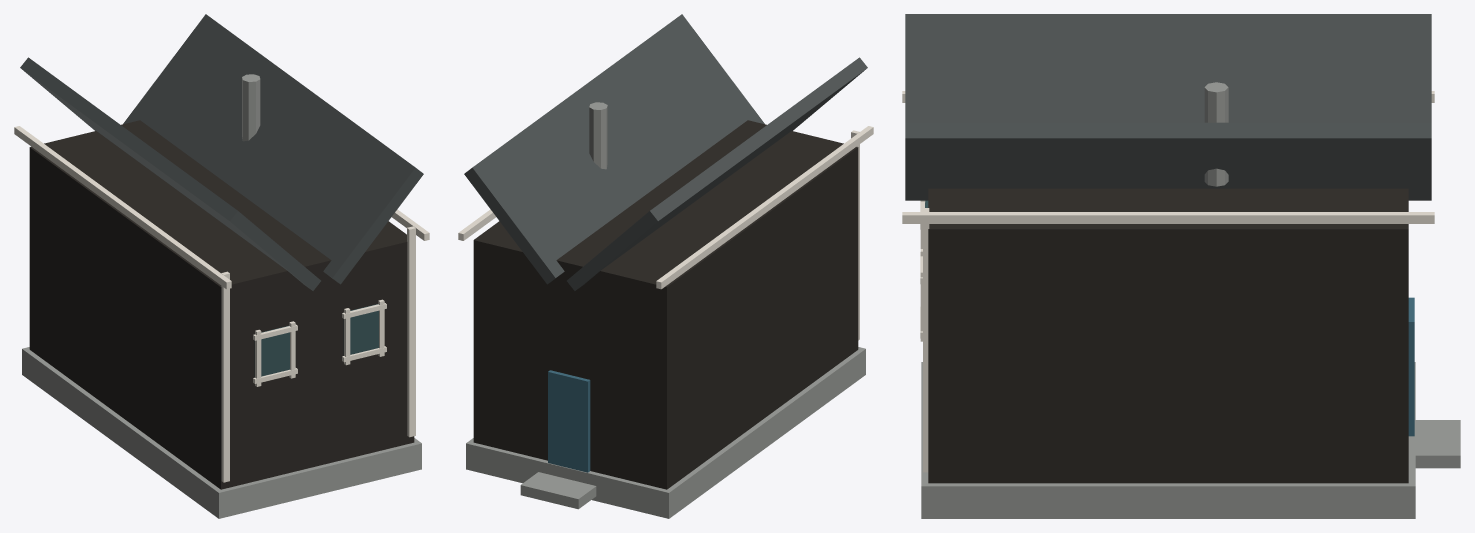
File: norway-house-charcoal-white_lod0.glb
The picture shows the model from 3 angles, left to right: view 1: azimuth 30°, elevation 25°; view 2: azimuth 150°, elevation 25°; view 3: azimuth 270°, elevation 25°; orthographic projection. The views are drawn at different scales.
Parts seen in each view (by area): view 1: RF_House_Walls, RF_House_RoofB, RF_House_Foundation, RF_House_RoofA, RF_House_Fascia, RF_House_Corner.001, RF_House_Corner, RF_House_Chimney, RF_House_WindowRecess.001, RF_House_WindowRecess; view 2: RF_House_Walls, RF_House_RoofB, RF_House_Foundation, RF_House_RoofA, RF_House_Door, RF_House_Fascia, RF_House_Threshold, RF_House_Chimney; view 3: RF_House_Walls, RF_House_RoofA, RF_House_RoofB, RF_House_Foundation, RF_House_Fascia.001, RF_House_Threshold, RF_House_Corner.001, RF_House_Chimney, RF_House_Door.
Boxes of the visible parts, bbox=[...] form: RF_House_Walls: bbox=[29, 120, 414, 489]; RF_House_RoofB: bbox=[123, 14, 423, 284]; RF_House_Foundation: bbox=[22, 347, 421, 518]; RF_House_RoofA: bbox=[20, 57, 320, 290]; RF_House_Fascia: bbox=[14, 126, 231, 289]; RF_House_Corner.001: bbox=[407, 226, 415, 437]; RF_House_Corner: bbox=[221, 271, 229, 482]; RF_House_Chimney: bbox=[242, 74, 260, 141]; RF_House_WindowRecess.001: bbox=[343, 304, 378, 355]; RF_House_WindowRecess: bbox=[254, 325, 289, 377]; RF_House_Walls: bbox=[473, 120, 858, 489]; RF_House_RoofB: bbox=[464, 14, 764, 284]; RF_House_Foundation: bbox=[466, 347, 865, 518]; RF_House_RoofA: bbox=[567, 57, 867, 290]; RF_House_Door: bbox=[548, 370, 590, 472]; RF_House_Fascia: bbox=[656, 126, 873, 289]; RF_House_Threshold: bbox=[520, 472, 596, 509]; RF_House_Chimney: bbox=[589, 102, 607, 169]; RF_House_Walls: bbox=[928, 188, 1408, 483]; RF_House_RoofA: bbox=[905, 14, 1431, 122]; RF_House_RoofB: bbox=[905, 122, 1431, 200]; RF_House_Foundation: bbox=[921, 362, 1415, 518]; RF_House_Fascia.001: bbox=[902, 212, 1434, 223]; RF_House_Threshold: bbox=[1415, 420, 1460, 468]; RF_House_Corner.001: bbox=[923, 208, 929, 472]; RF_House_Chimney: bbox=[1204, 82, 1228, 186]; RF_House_Door: bbox=[1408, 297, 1414, 436].
Size of the model in its own units: 7.35 by 11 by 13.95.
